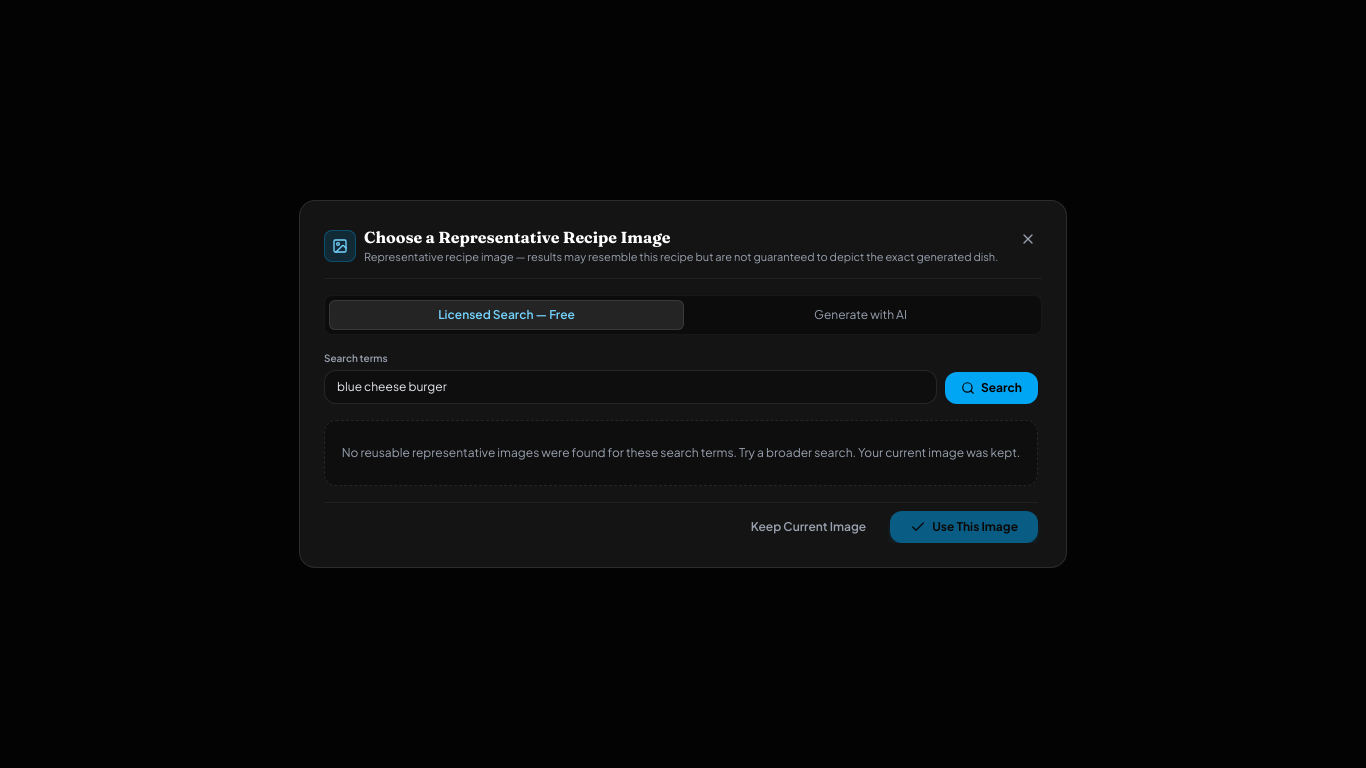
RecipeImageChooser — two clearly separated modes › never renders raw error text or credentials
The width and height of the screenshot is (1366, 768).
Click the tab with test id "image-mode-ai": (860, 315) [684,300,1037,330]
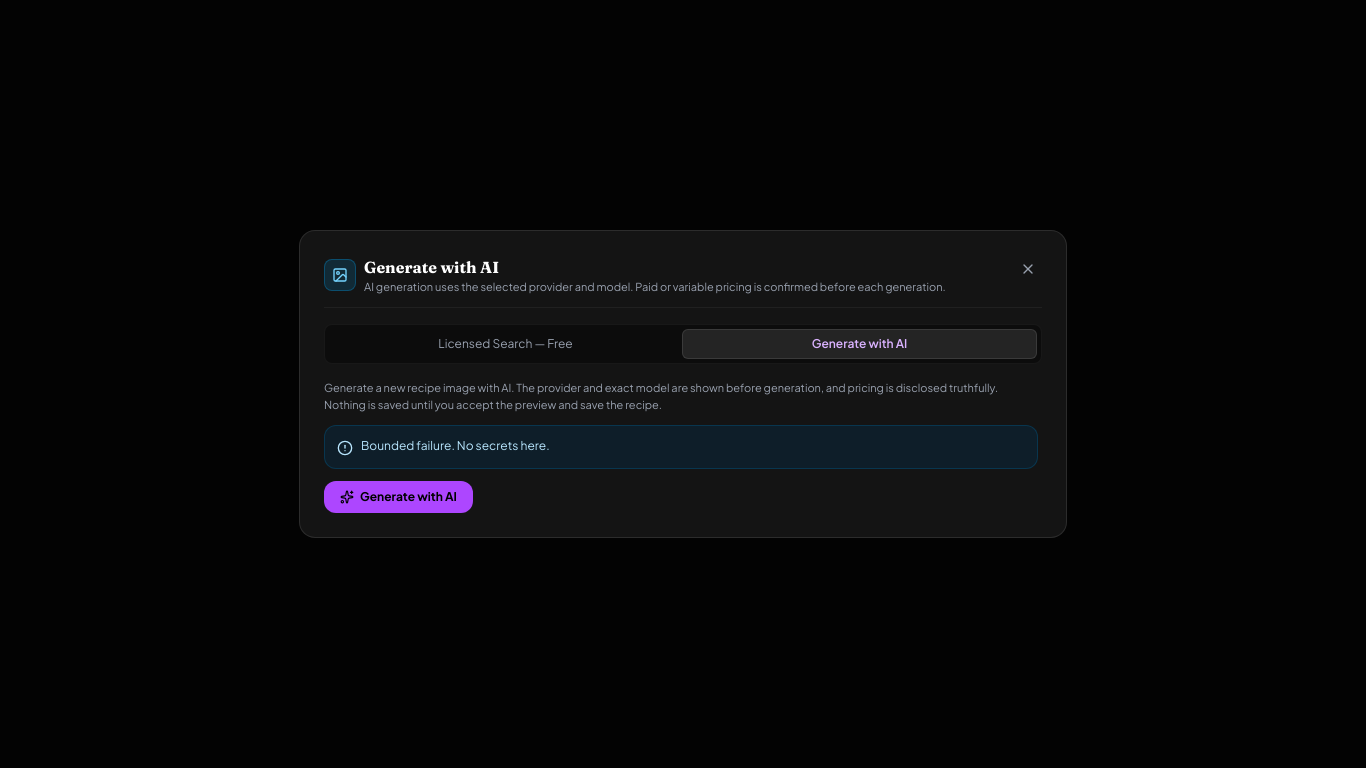
Check: the text "Bounded failure" is shown, box [361,438,550,453]
